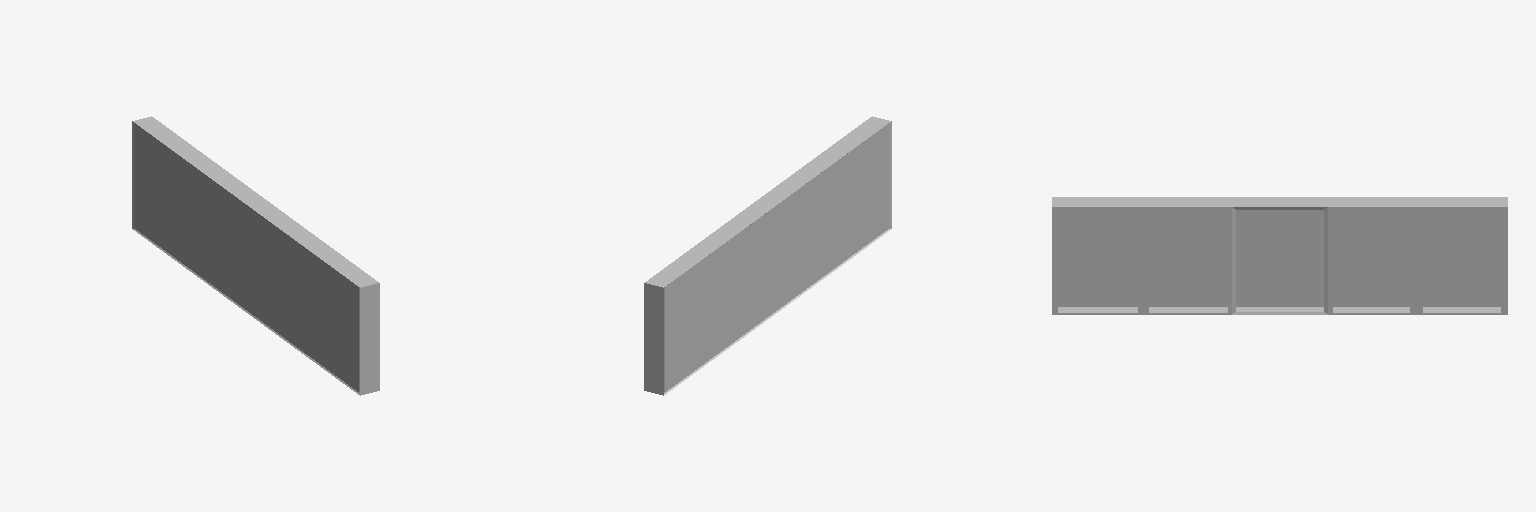
Rendered from SolidWallS.obj.
3 views of the same model, side by side, from view 1: azimuth 30°, elevation 25°; view 2: azimuth 150°, elevation 25°; view 3: azimuth 270°, elevation 25° (orthographic).
Visible parts, largest first — view 1: SolidWallS; view 2: SolidWallS; view 3: SolidWallS.
Part boxes in pixels (x1,y1,x2,y2): SolidWallS: (132,116,379,395); SolidWallS: (644,116,891,395); SolidWallS: (1052,197,1507,314).
Bounding box in the file's own units: 0.2348 × 1.22 × 4.68.